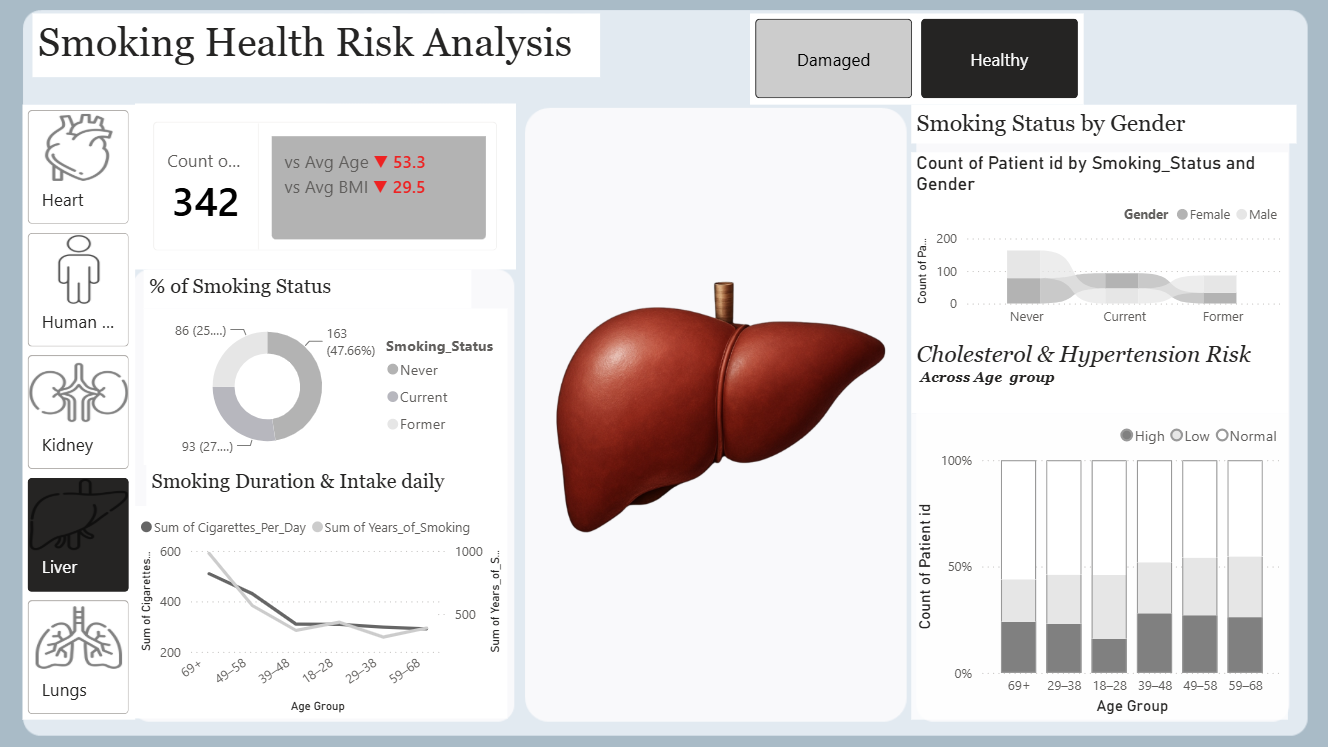

This screenshot's page, from the dashboard's own definition file:
{"tool":"powerbi","page":{"name":"Page 1","canvas":[1280,720],"ordinal":0},"visuals":[{"type":"textbox","box":[48.8,20.9,527.9,59.3],"z":0},{"type":"ribbonChart","fields":{"Category":["health_dataset.Smoking_Status"],"Y":["CountNonNull(health_dataset.Patient_ID)"],"Series":["health_dataset.Gender"]},"box":[866.3,150,350,170.9],"z":1000},{"type":"donutChart","fields":{"Y":["CountNonNull(health_dataset.Patient_ID)"],"Category":["health_dataset.Smoking_Status"]},"box":[152.3,295.3,338.4,145.3],"z":2000},{"type":"lineChart","fields":{"Y2":["Sum(health_dataset.Years_of_Smoking)"],"Y":["Sum(health_dataset.Cigarettes_Per_Day)"],"Category":["health_dataset.Age Group"]},"box":[144.2,479.1,346.5,197.7],"z":3000},{"type":"textbox","box":[152.5,258.8,305,36.2],"z":4000},{"type":"textbox","box":[866.3,105.8,358.1,36],"z":6000},{"type":"textbox","box":[866.3,320.9,350,72.1],"z":7000},{"type":"hundredPercentStackedColumnChart","fields":{"Category":["health_dataset.Age Group"],"Y":["CountNonNull(health_dataset.Patient_ID)"],"Series":["health_dataset.BP_Risk"]},"box":[866.2,392.5,350,285],"z":8000},{"type":"textbox","box":[154.7,440.7,336,38.4],"z":9000},{"type":"advancedSlicerVisual","fields":{"Values":["Organs.Organ"]},"box":[39.5,105.8,104.7,572.1],"z":10000},{"type":"image","box":[514,101.2,352.3,575.6],"z":11000},{"type":"cardVisual","fields":{"Data":["CountNonNull(health_dataset.Patient_ID)"]},"box":[144.4,104.4,354.4,154.4],"z":12000},{"type":"advancedSlicerVisual","fields":{"Values":["health_dataset.Organ_Condition"]},"box":[716.3,20.9,310.5,84.9],"z":13000}]}

Visuals, with their boxes in screenshot pixels (x1, y1, x2, y2), scaled from the page's 1280x720 canvas onto the 1328x747 screenshot:
textbox: x1=51 y1=22 x2=598 y2=83
ribbonChart - health_dataset.Smoking_Status x CountNonNull(health_dataset.Patient_ID): x1=899 y1=156 x2=1262 y2=333
donutChart - CountNonNull(health_dataset.Patient_ID) x health_dataset.Smoking_Status: x1=158 y1=306 x2=509 y2=457
lineChart - Sum(health_dataset.Years_of_Smoking) x Sum(health_dataset.Cigarettes_Per_Day): x1=150 y1=497 x2=509 y2=702
textbox: x1=158 y1=269 x2=475 y2=306
textbox: x1=899 y1=110 x2=1270 y2=147
textbox: x1=899 y1=333 x2=1262 y2=408
hundredPercentStackedColumnChart - health_dataset.Age Group x CountNonNull(health_dataset.Patient_ID): x1=899 y1=407 x2=1262 y2=703
textbox: x1=161 y1=457 x2=509 y2=497
advancedSlicerVisual - Organs.Organ: x1=41 y1=110 x2=150 y2=703
image: x1=533 y1=105 x2=899 y2=702
cardVisual - CountNonNull(health_dataset.Patient_ID): x1=150 y1=108 x2=518 y2=269
advancedSlicerVisual - health_dataset.Organ_Condition: x1=743 y1=22 x2=1065 y2=110
